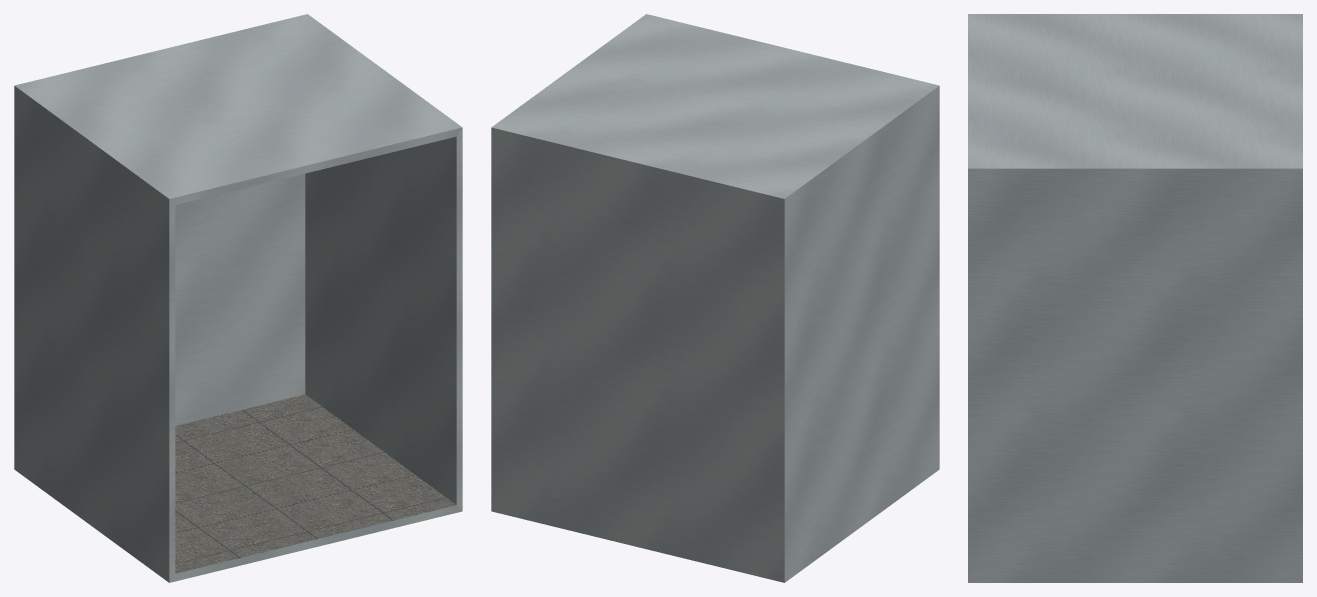
File: Elevator.fbx
3 views of the same model, side by side, from view 1: azimuth 30°, elevation 25°; view 2: azimuth 150°, elevation 25°; view 3: azimuth 270°, elevation 25° (orthographic). The views are drawn at different scales.
Parts seen in each view (by area): view 1: Elevator_mesh; view 2: Elevator_mesh; view 3: Elevator_mesh.
Part boxes in pixels (left/top/right/bottom): Elevator_mesh: left=14, top=14, right=462, bottom=582; Elevator_mesh: left=491, top=14, right=939, bottom=582; Elevator_mesh: left=968, top=14, right=1302, bottom=582.
Bounding box in the file's own units: 240 × 300 × 220.
